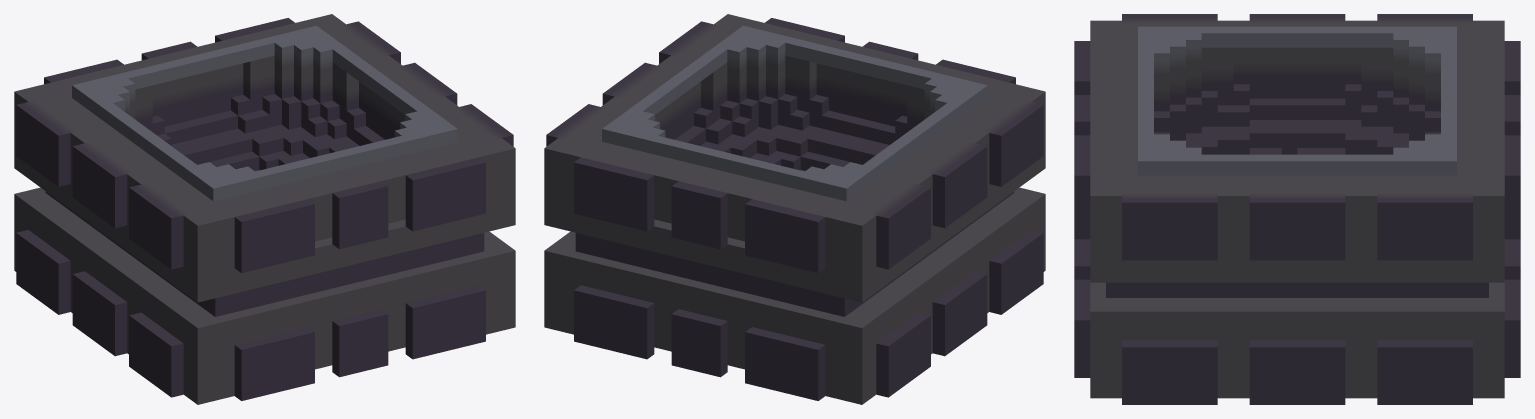
Rendered from podium_grey.fbx.
3 views of the same model, side by side, from view 1: azimuth 30°, elevation 25°; view 2: azimuth 150°, elevation 25°; view 3: azimuth 270°, elevation 25° (orthographic). The views are drawn at different scales.
Parts seen in each view (by area): view 1: podium_grey; view 2: podium_grey; view 3: podium_grey.
Part boxes in pixels (box(x1,y1,x2,y2)): podium_grey: box(14, 14, 515, 404); podium_grey: box(544, 14, 1045, 404); podium_grey: box(1074, 14, 1520, 404).
Bounding box in the file's own units: 28 × 15 × 28.
Materials: 1 (1 with a texture image).
